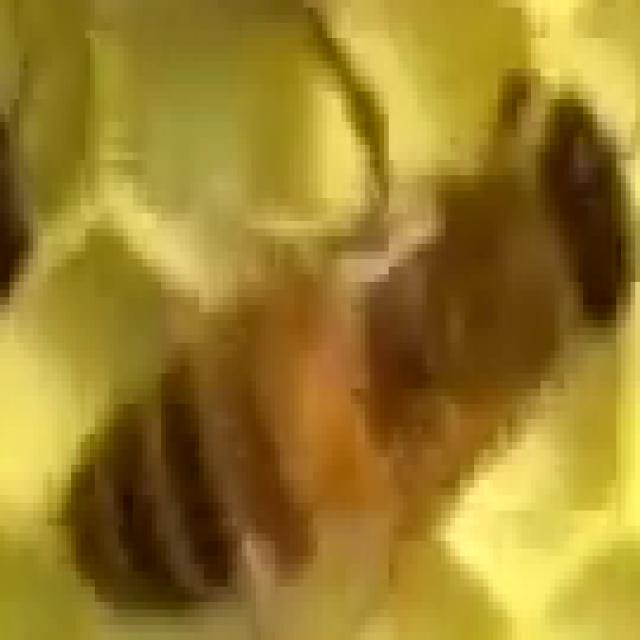honeybee: (53, 89, 633, 552)
